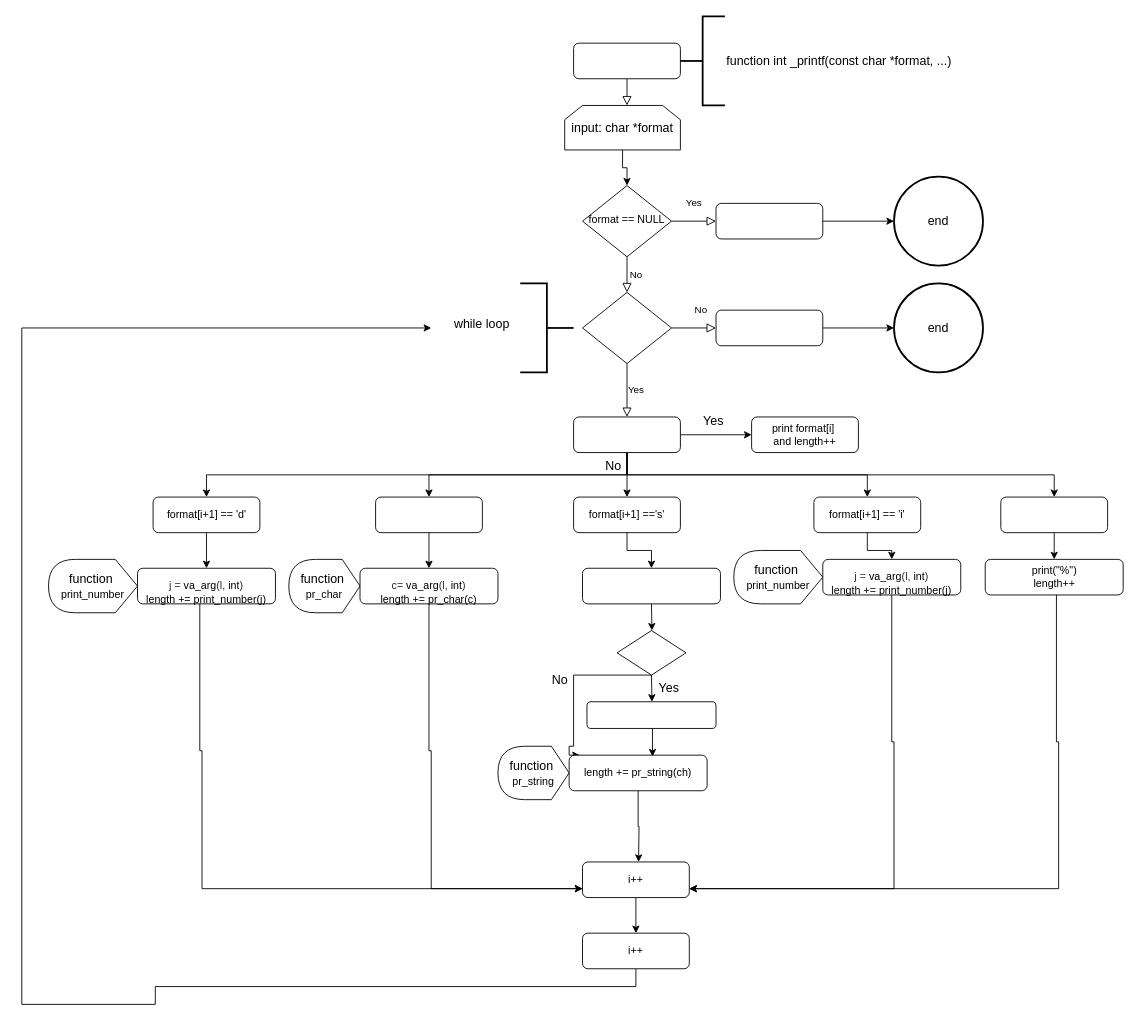
This 1139x1027 diagram has some shape labels left out. The shapes that lost their labels are listed below. From the top down, each one's centre as x and y in pixels, then its label:
(x=626, y=60): start
(x=769, y=220): return (-1)
(x=627, y=327): format[i]
(x=769, y=327): return (length)
(x=626, y=434): format[i] != '%'
(x=428, y=514): format[i+1] == 'c'
(x=1054, y=514): format[i+1] == '%'
(x=651, y=585): ch= va_arg (l, cha* )
(x=651, y=652): !ch
(x=651, y=714): ch = "(null)"
